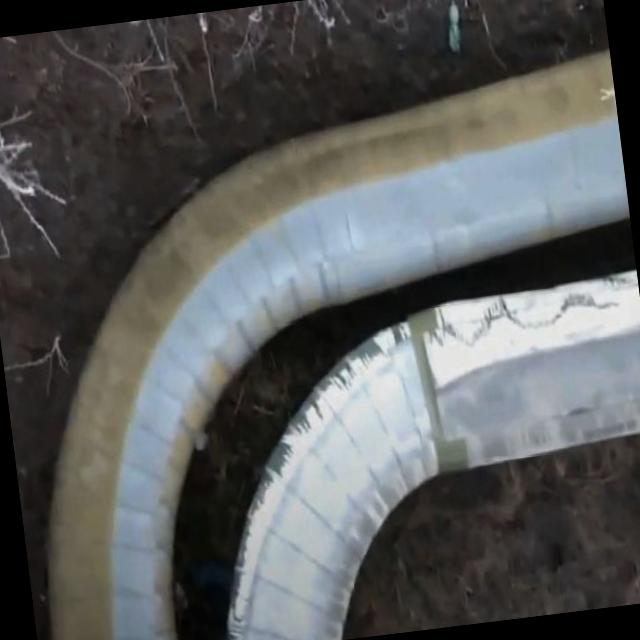gas: (54, 51, 630, 640), (231, 270, 640, 640)
